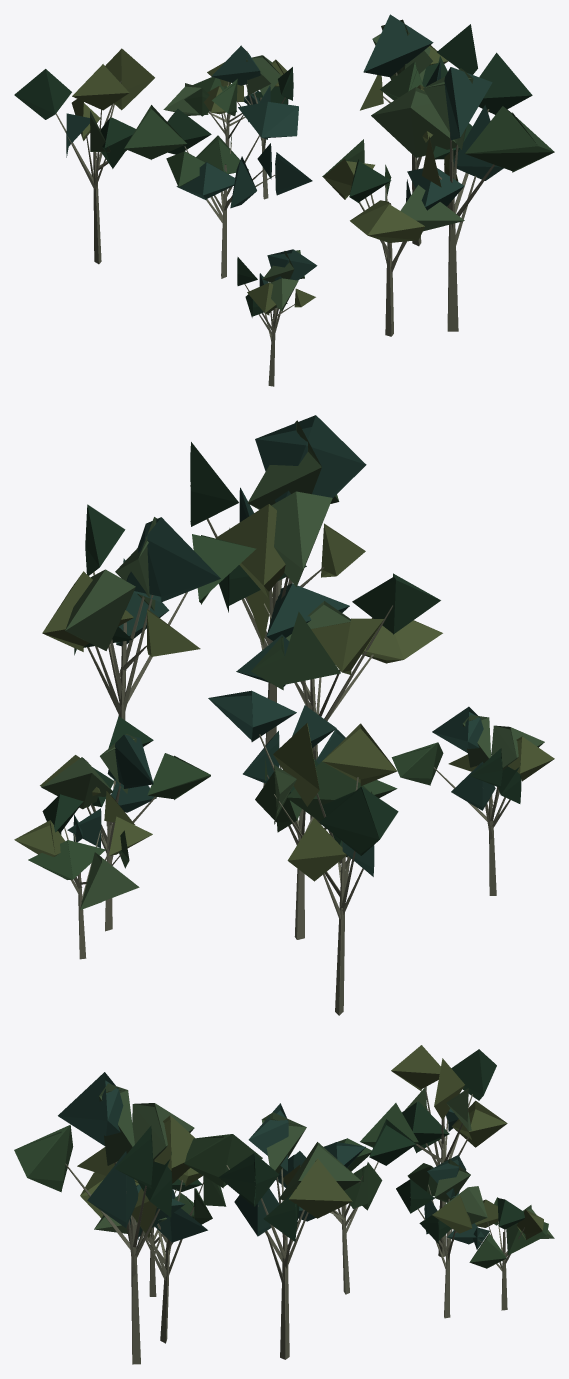
The model's file is forest_16_23.dae.
The picture shows the model from 3 angles, top to bottom: view 1: azimuth 30°, elevation 25°; view 2: azimuth 150°, elevation 25°; view 3: azimuth 270°, elevation 25°; orthographic projection. The views are drawn at different scales.
Visible parts, largest first — view 1: Node; view 2: Node; view 3: Node.
Part boxes in pixels (x1,y1,x2,y2): Node: [14, 14, 554, 386]; Node: [14, 415, 554, 1015]; Node: [14, 1045, 554, 1364].
Bounding box in the file's own units: 4.84 × 6.68 × 4.1.
